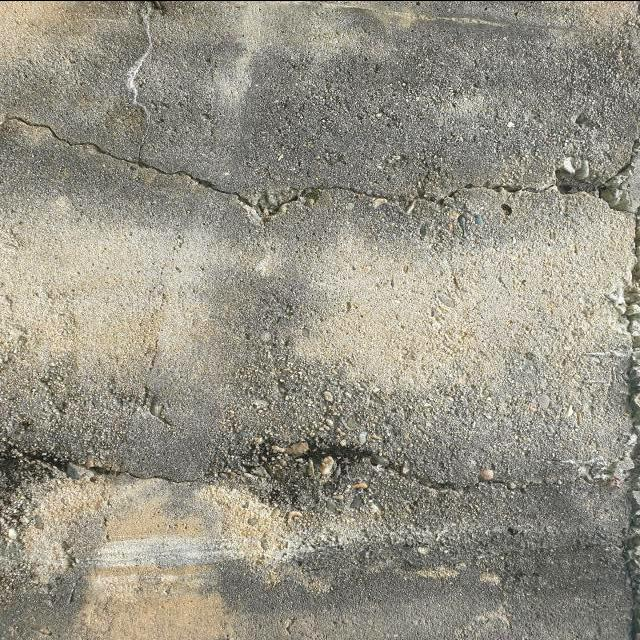SurfaceCrack: (0, 95, 639, 256)
